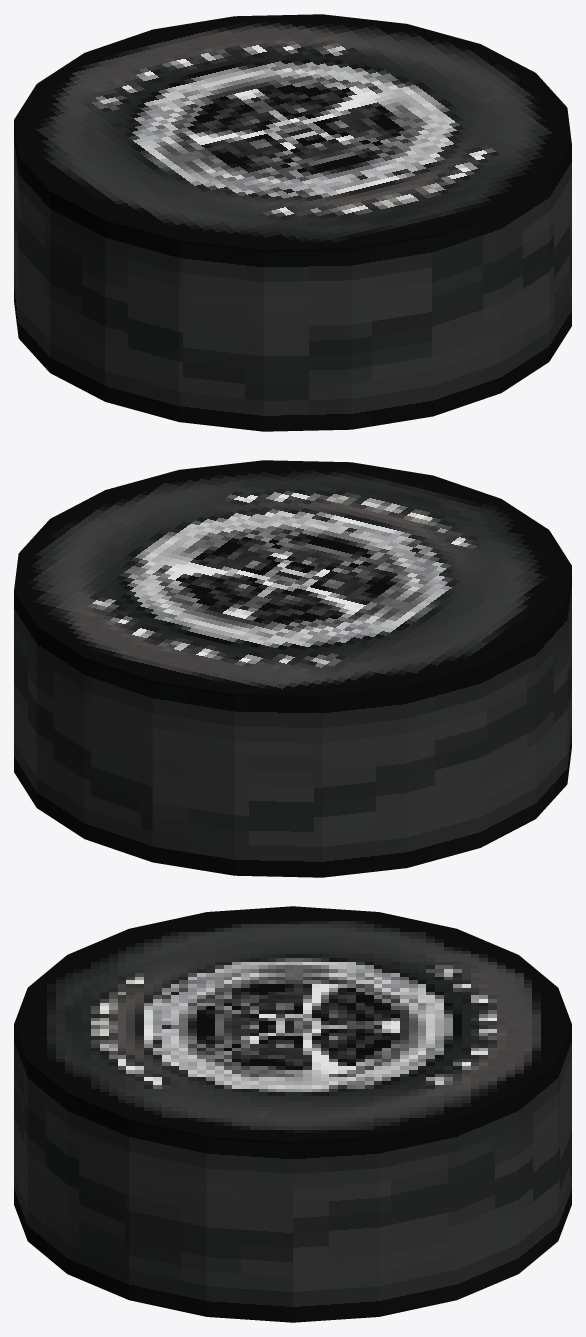
Rendered from wheel.glb.
3 renders of one model, top to bottom at view 1: azimuth 30°, elevation 25°; view 2: azimuth 150°, elevation 25°; view 3: azimuth 270°, elevation 25°, orthographic.
Visible parts, largest first — view 1: Cylinder; view 2: Cylinder; view 3: Cylinder.
Boxes of the visible parts, x1,y1,x2,y2 form: Cylinder: (14, 14, 571, 431); Cylinder: (14, 460, 571, 877); Cylinder: (14, 906, 571, 1322).
Size of the model in its own units: 1.4 by 0.5 by 1.4.
1 material, 1 textured.
